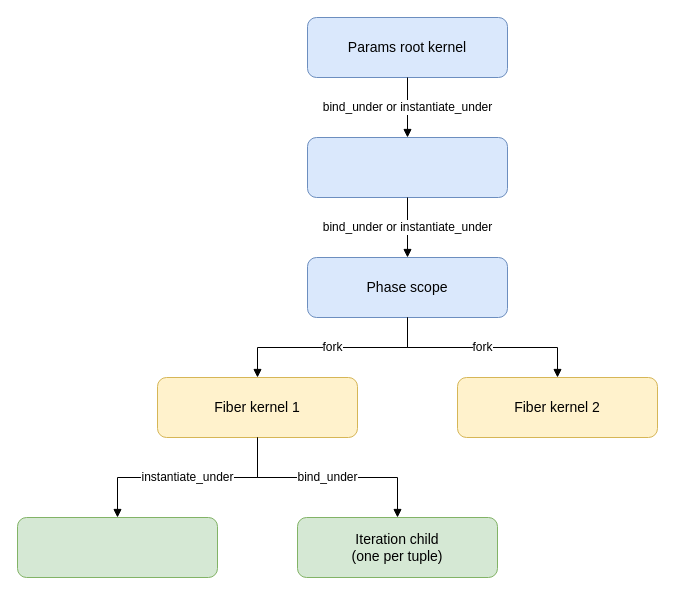
This 675x595 diagram has some shape labels left out. The centre of each missing label's shape, as x and y in pixels:
Per-op child: point (117, 547)
Workload scope: point (407, 167)
